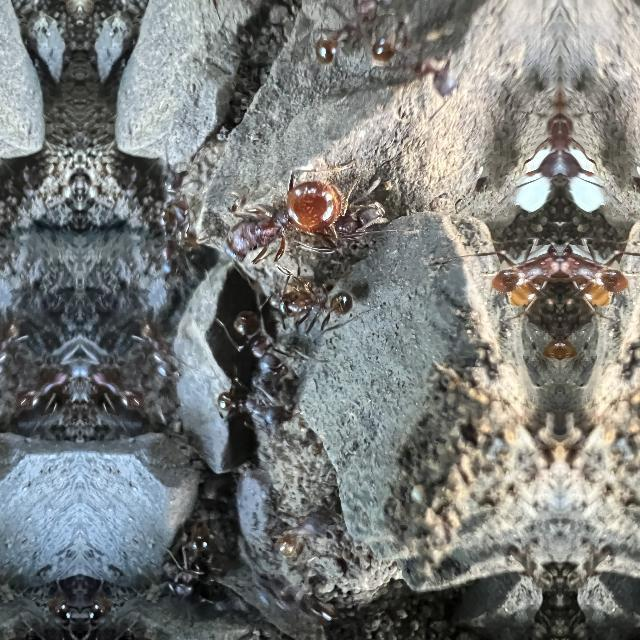Apheanogaster: (216, 152, 354, 278), (364, 12, 468, 112), (142, 153, 208, 297), (562, 220, 640, 322), (478, 222, 556, 322), (517, 36, 557, 202), (563, 36, 603, 202), (270, 268, 362, 340), (222, 298, 292, 392), (306, 0, 394, 72), (208, 369, 294, 437), (162, 518, 218, 608), (270, 493, 336, 563), (80, 354, 150, 420), (10, 354, 80, 420), (502, 242, 560, 316), (560, 242, 618, 316), (140, 314, 194, 392), (0, 153, 18, 297), (0, 314, 20, 391), (535, 329, 559, 376), (561, 329, 585, 376)
